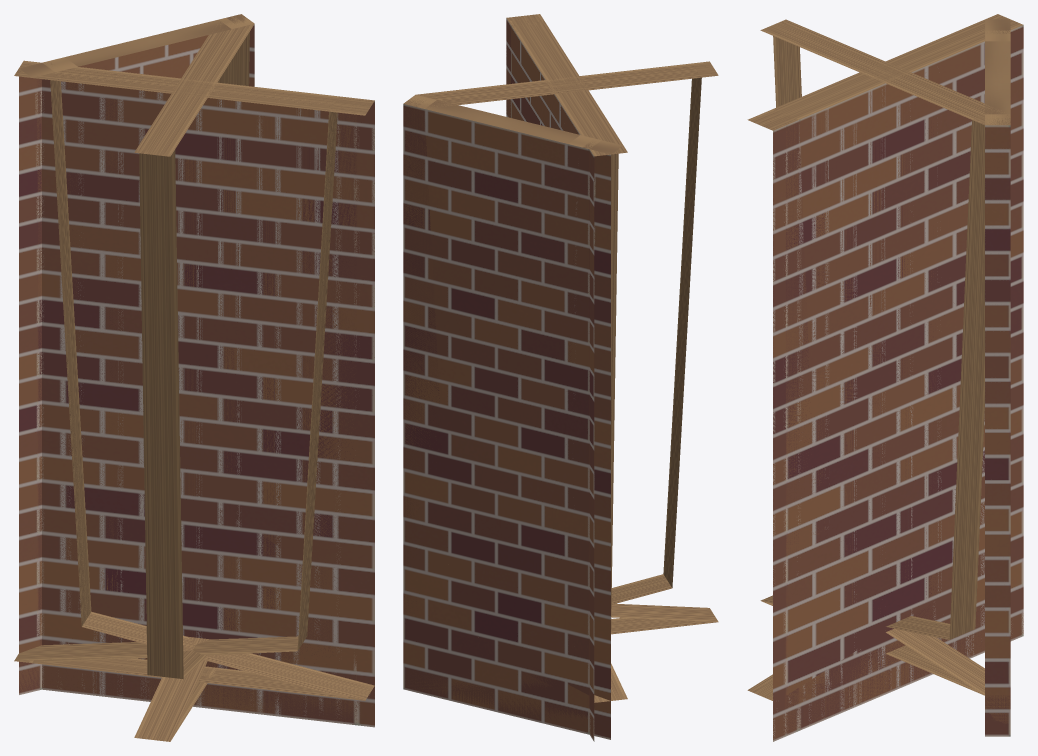
Rendered from walls.glb.
3 views of the same model, side by side, from view 1: azimuth 30°, elevation 25°; view 2: azimuth 150°, elevation 25°; view 3: azimuth 270°, elevation 25° (orthographic). The views are drawn at different scales.
Parts seen in each view (by area): view 1: Diagonal_Wall.Up.Full, Diagonal_Wall.Up.Side, Diagonal_Wall.Up.Right_Extension, Diagonal_Wall.Right.Left_Extension, Diagonal_Wall_Top.Left.Cross, Wall.Left.Extended_Side, Wall.Up.Extended_Side, Diagonal_Wall.Up.Left_Extension, Diagonal_Wall.Left.Right_Extension, Diagonal_Wall.Left.Side, Diagonal_Wall_Top.Left.Side, Diagonal_Wall_Top.Right.Right_Extension (+19 smaller); view 2: Wall.Up.End, Wall.Up.Extended_Side, Wall.Left.Side, Wall.Right.Side, Wall.Left.Full, Wall.Left.Extended_Side, Diagonal_Wall_Top.Left.Cross, Diagonal_Wall_Top.Up.Cross, Diagonal_Wall_Top.Up.Left_Extension, Diagonal_Wall_Top.Up.Full, Diagonal_Wall.Left.Right_Extension, Diagonal_Wall.Up.Side (+12 smaller); view 3: Diagonal_Wall.Up.Side, Diagonal_Wall.Up.Left_Extension, Diagonal_Wall.Up.Right_Extension, Diagonal_Wall.Up.Full, Diagonal_Wall.Left.Right_Extension, Wall.Up.End, Diagonal_Wall_Top.Right.Cross, Diagonal_Wall.Right.Left_Extension, Diagonal_Wall_Top.Up.Cross, Diagonal_Wall_Top.Left.Cross, Diagonal_Wall.Left.Side, Diagonal_Wall_Top.Up.Full (+12 smaller).
Part boxes in pixels (x1,y1,x2,y2): Diagonal_Wall.Up.Full: (42,79,374,693); Diagonal_Wall.Up.Side: (42,81,356,642); Diagonal_Wall.Up.Right_Extension: (42,80,356,714); Diagonal_Wall.Right.Left_Extension: (45,101,374,701); Diagonal_Wall_Top.Left.Cross: (134,145,207,679); Wall.Left.Extended_Side: (19,77,41,694); Wall.Up.Extended_Side: (19,43,179,694); Diagonal_Wall.Up.Left_Extension: (43,83,374,641); Diagonal_Wall.Left.Right_Extension: (42,79,356,722); Diagonal_Wall.Left.Side: (42,80,353,720); Diagonal_Wall_Top.Left.Side: (34,73,347,698); Diagonal_Wall_Top.Right.Right_Extension: (14,98,356,660); Wall.Up.End: (403,105,589,719); Wall.Up.Extended_Side: (403,106,610,739); Wall.Left.Side: (403,144,589,717); Wall.Right.Side: (403,104,589,719); Wall.Left.Full: (457,144,610,678); Wall.Left.Extended_Side: (403,148,610,722); Diagonal_Wall_Top.Left.Cross: (611,61,718,604); Diagonal_Wall_Top.Up.Cross: (419,62,717,108); Diagonal_Wall_Top.Up.Left_Extension: (508,15,618,148); Diagonal_Wall_Top.Up.Full: (507,14,627,155); Diagonal_Wall.Left.Right_Extension: (589,150,594,741); Diagonal_Wall.Up.Side: (511,25,580,134); Diagonal_Wall.Up.Side: (786,42,984,734); Diagonal_Wall.Up.Left_Extension: (773,41,984,738); Diagonal_Wall.Up.Right_Extension: (786,27,1023,679); Diagonal_Wall.Up.Full: (773,25,1023,741); Diagonal_Wall.Left.Right_Extension: (786,25,1023,736); Wall.Up.End: (985,125,1010,723); Diagonal_Wall_Top.Right.Cross: (760,110,1009,639); Diagonal_Wall.Right.Left_Extension: (773,120,809,741); Diagonal_Wall_Top.Up.Cross: (762,19,1002,124); Diagonal_Wall_Top.Left.Cross: (760,19,984,695); Diagonal_Wall.Left.Side: (786,411,984,734); Diagonal_Wall_Top.Up.Full: (750,15,1021,130).
Size of the model in its own units: 1.23 by 3 by 1.23.
Materials: 17 (17 with a texture image).
